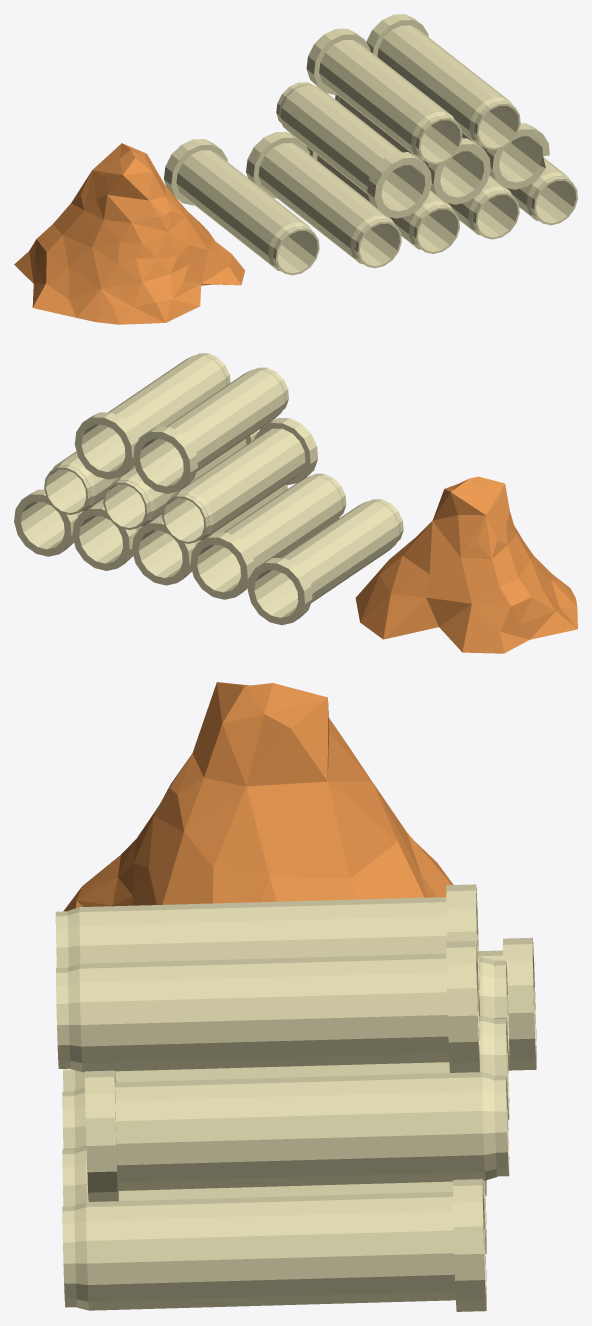
File: D1_CONSTRUCTION_ZONE_2.fbx
3 renders of one model, top to bottom at view 1: azimuth 30°, elevation 25°; view 2: azimuth 150°, elevation 25°; view 3: azimuth 270°, elevation 25°, orthographic. The views are drawn at different scales.
Visible parts, largest first — view 1: D1_CONSTRUCTION_AREA_2; view 2: D1_CONSTRUCTION_AREA_2; view 3: D1_CONSTRUCTION_AREA_2.
Part boxes in pixels (x1,y1,x2,y2): D1_CONSTRUCTION_AREA_2: (14, 14, 577, 324); D1_CONSTRUCTION_AREA_2: (14, 353, 577, 653); D1_CONSTRUCTION_AREA_2: (55, 682, 536, 1311).
Size of the model in its own units: 912 by 260 by 376.
